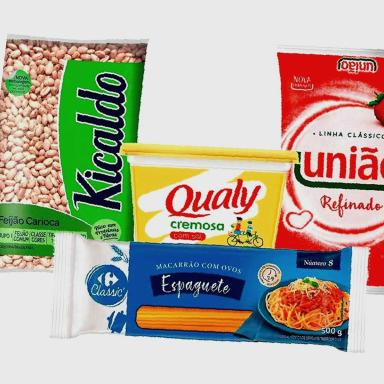beans package: (0, 36, 146, 270)
pasta package: (52, 233, 368, 351)
